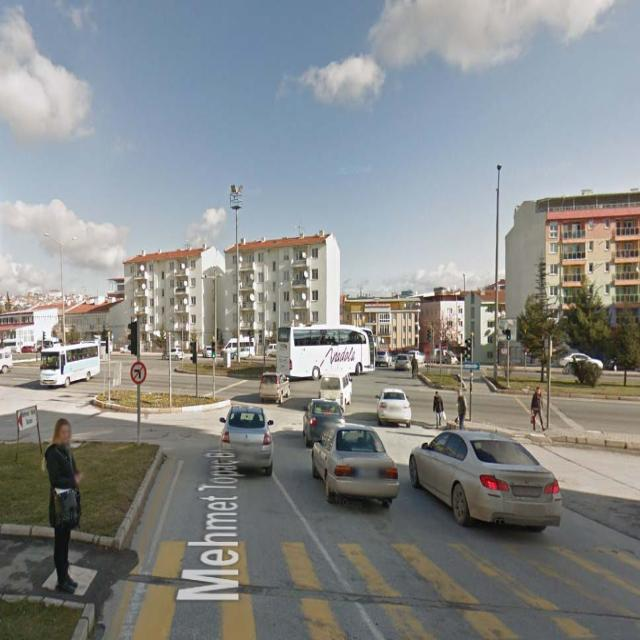soladonulmez: (131, 363, 147, 384)
